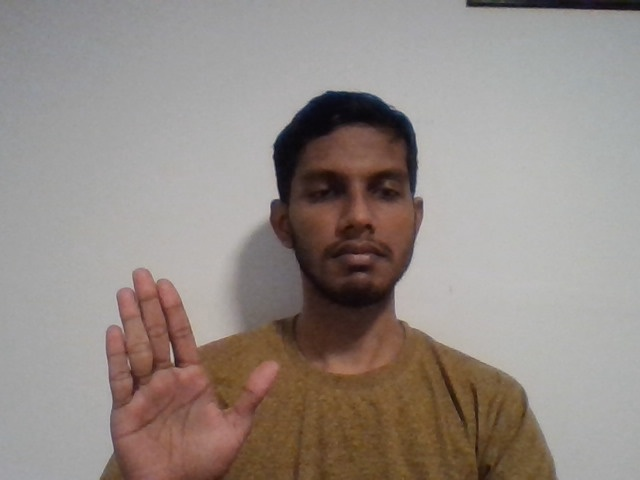hello: (84, 259, 283, 480)
